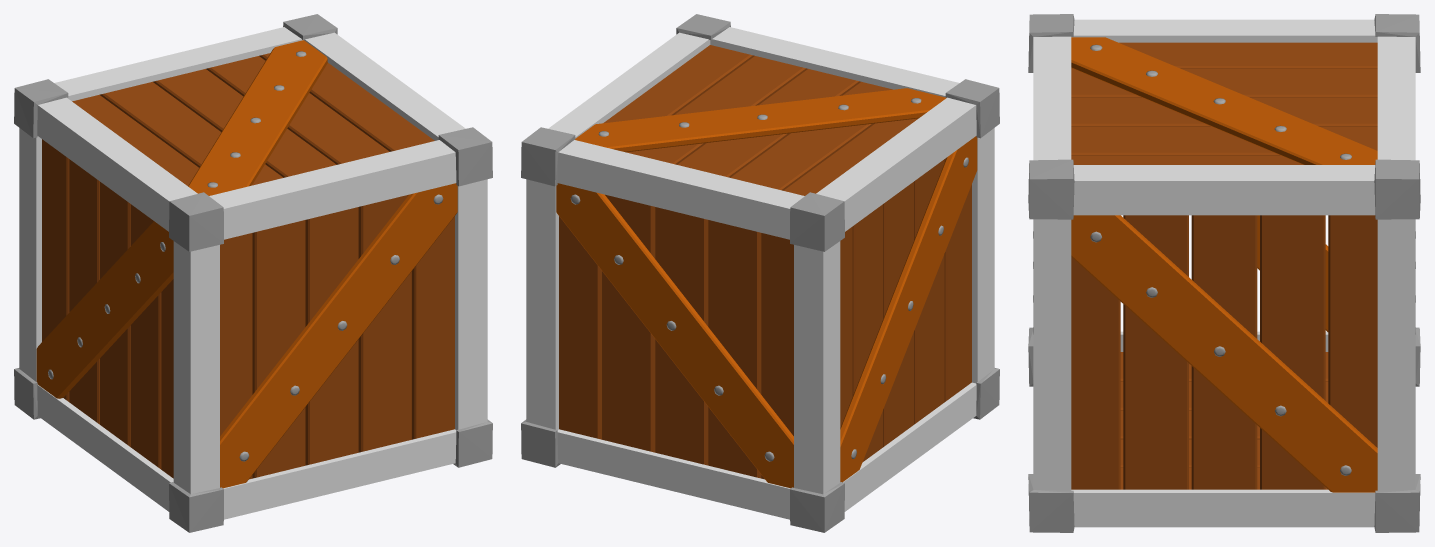
File: Crate.fbx
The picture shows the model from 3 angles, left to right: view 1: azimuth 30°, elevation 25°; view 2: azimuth 150°, elevation 25°; view 3: azimuth 270°, elevation 25°; orthographic projection. The views are drawn at different scales.
Visible parts, largest first — view 1: Crate_LOD0; view 2: Crate_LOD0; view 3: Crate_LOD0.
Boxes of the visible parts, x1,y1,x2,y2 form: Crate_LOD0: (14,14,492,532); Crate_LOD0: (521,14,999,532); Crate_LOD0: (1028,14,1420,532).
Size of what is drawn, in the model's own units: 335 by 335 by 335.
